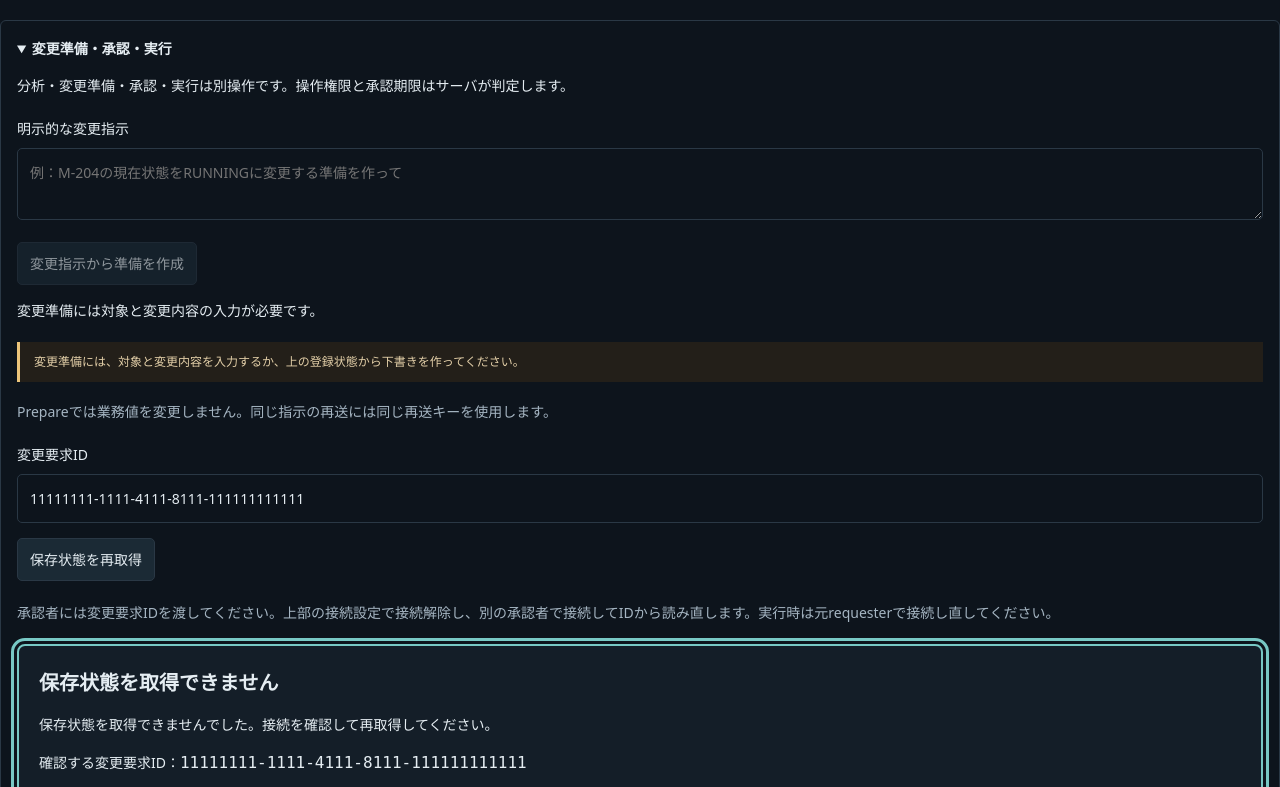
Test: opens an explicitly requested saved request and keeps its ID when a read fails
Expected: the field labelled "変更要求ID" holds "11111111-1111-4111-8111-111111111111", [17,474,1263,523]
Click the button "保存状態を再取得" at coordinates (86, 559), box [17,538,155,581]
(page scrolled)
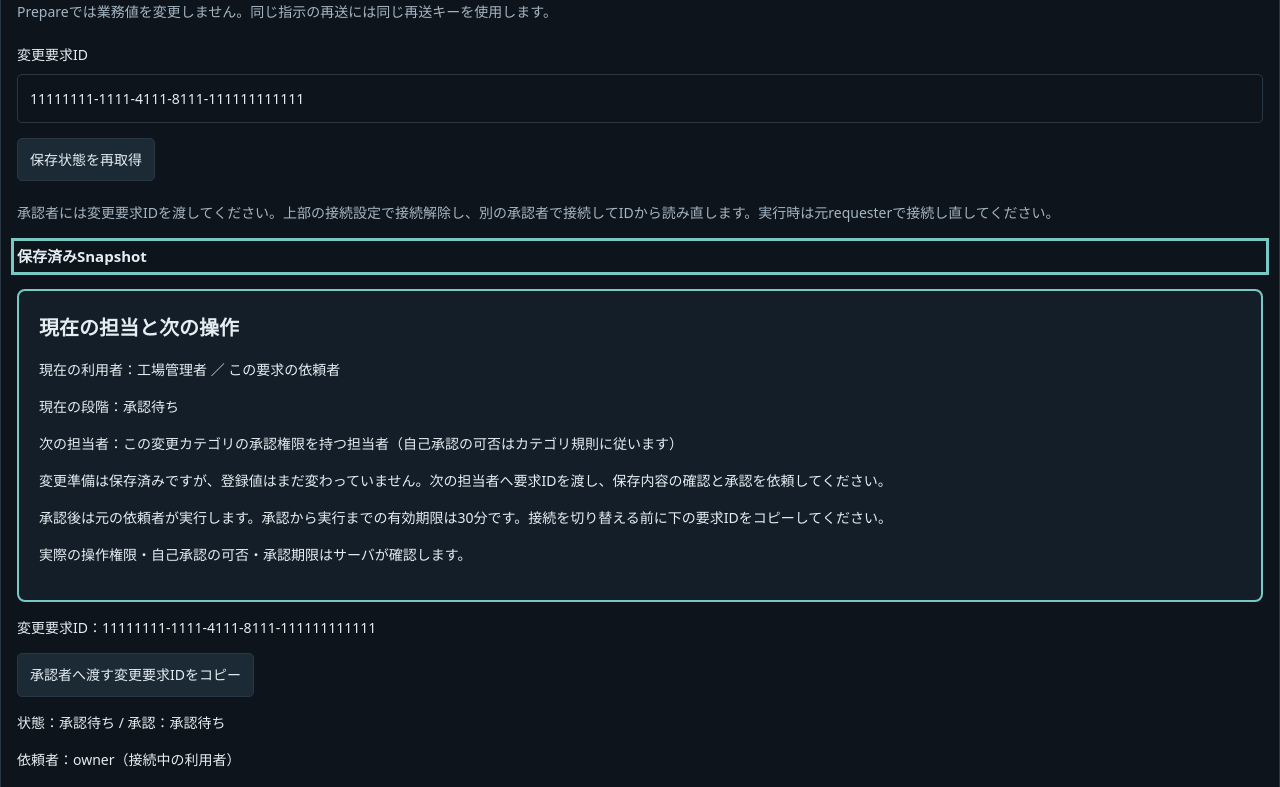
Now the heading "保存済みSnapshot" is shown, box [17,246,147,266]
Now the element "現在の担当と次の操作" shows "この要求の依頼者", box [228,360,340,379]
Now the element "現在の担当と次の操作" shows "工場管理者", box [137,360,207,379]
